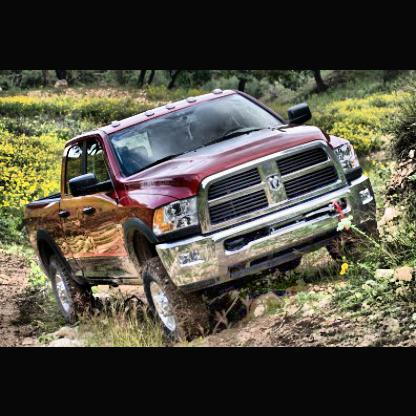Dodge Ram Pickup 3500 Crew Cab 2010: (23, 85, 382, 337)
